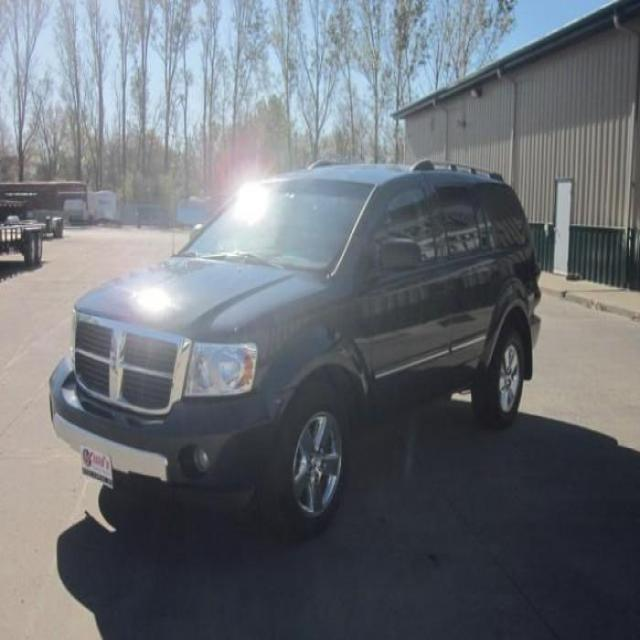Car: (42, 129, 561, 543)
